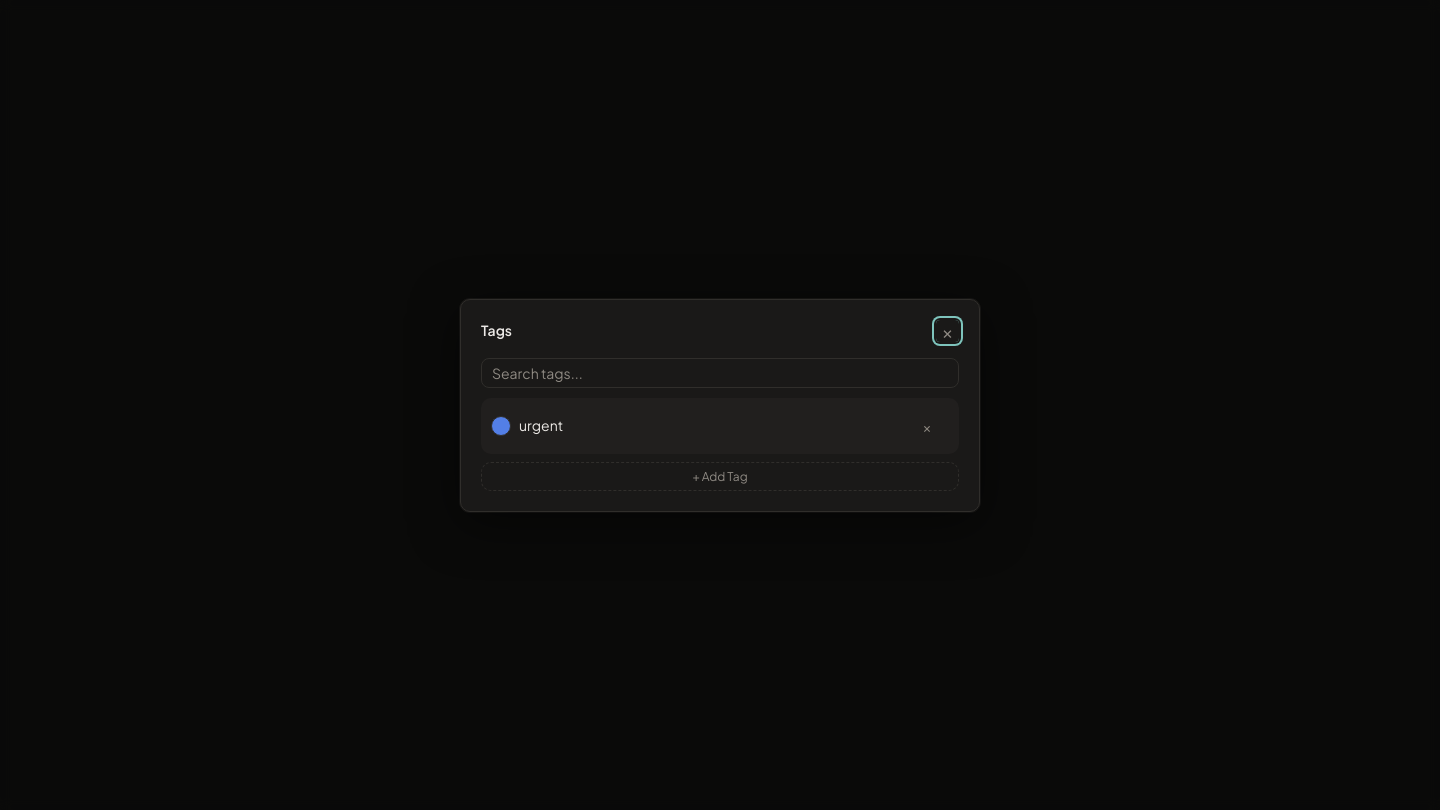
Test: TagEditor › edits a tag name via click-on-name
The width and height of the screenshot is (1440, 810).
Click the text "urgent".
click(541, 425)  # box [519,416,563,434]
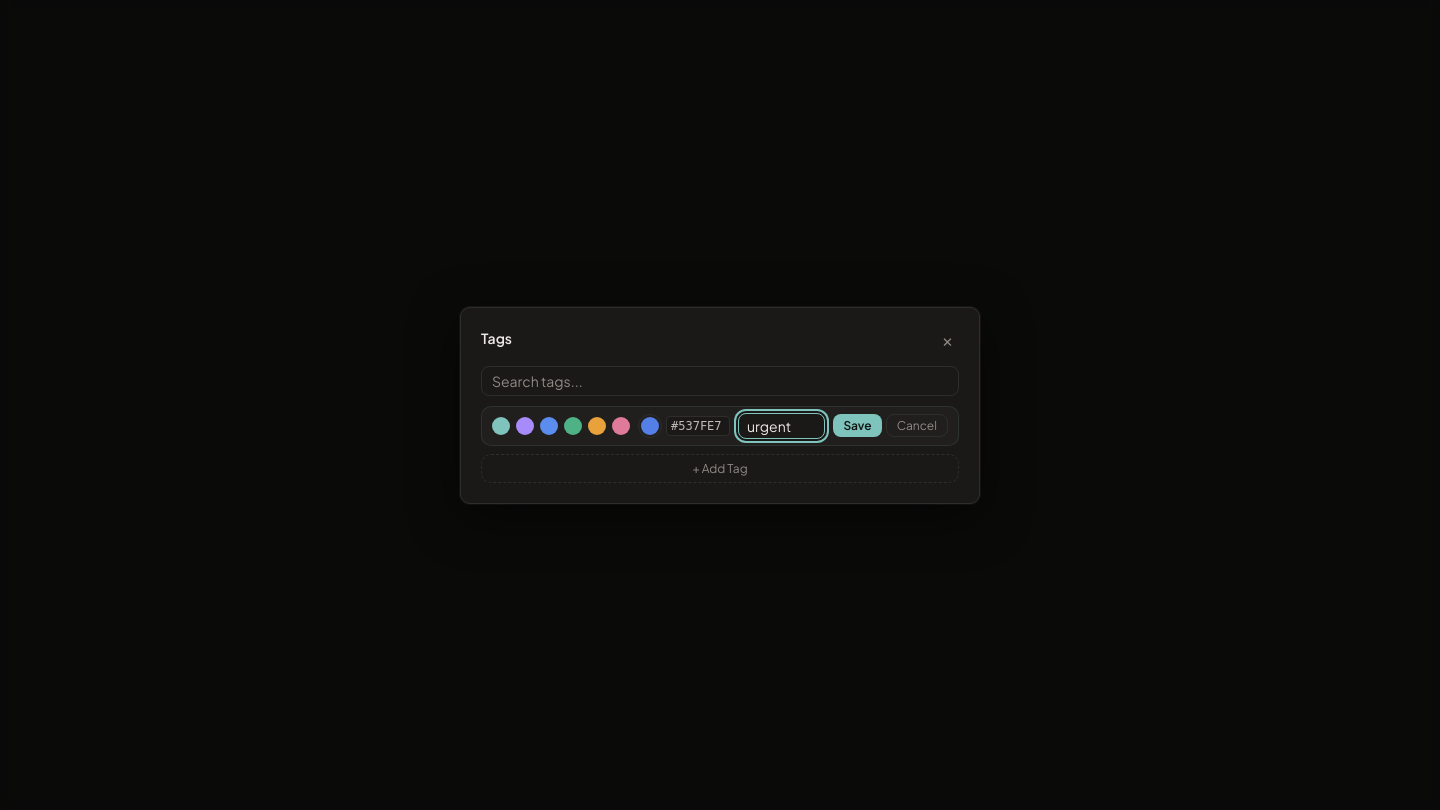
Replace the text in the 2nd field showing "urgent" with "critical" at {"x": 782, "y": 426}, box [738,412,825,438]
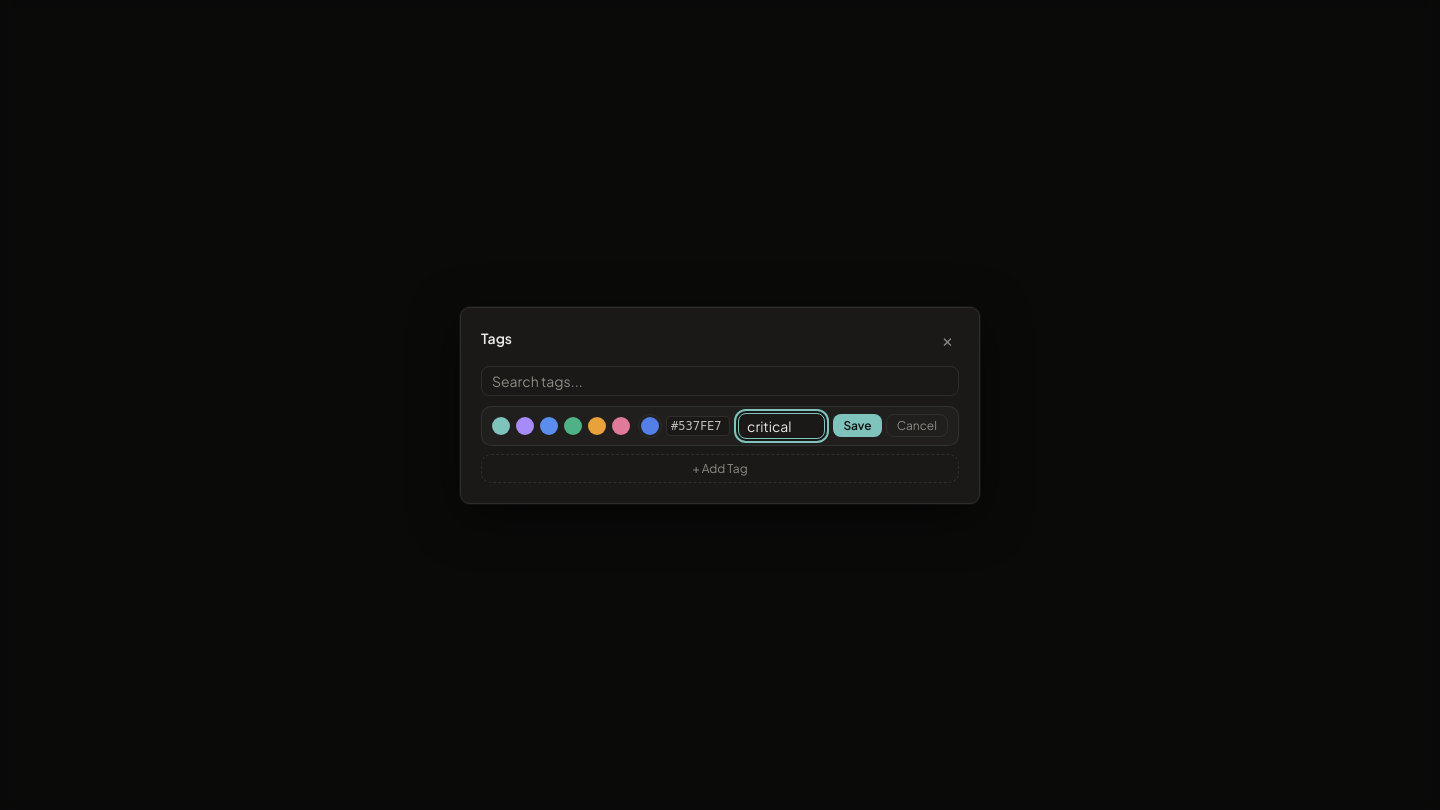
Click the button "Save".
click(858, 426)  # box [833,414,882,437]
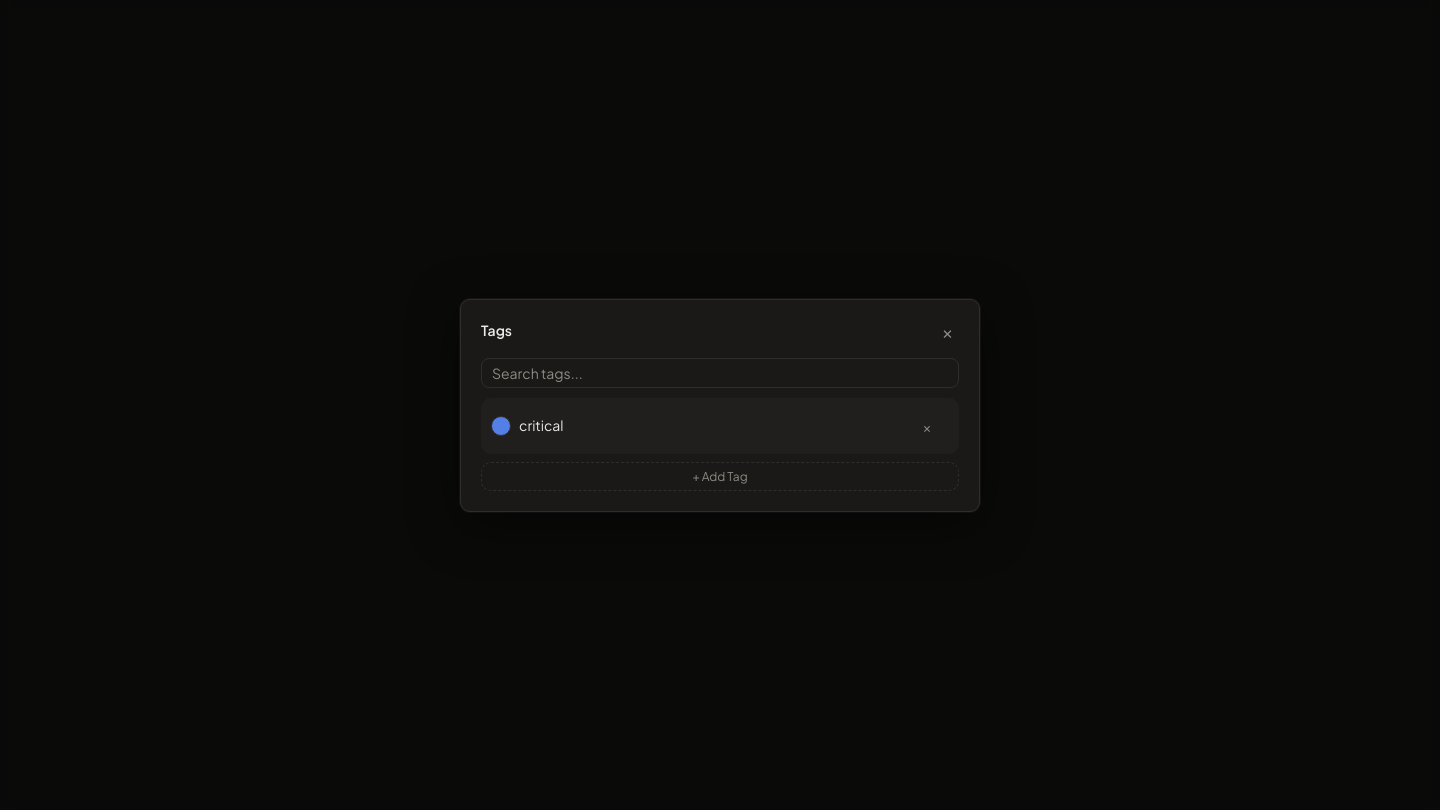
Expected: the text "critical" is shown, [519,416,564,434]
